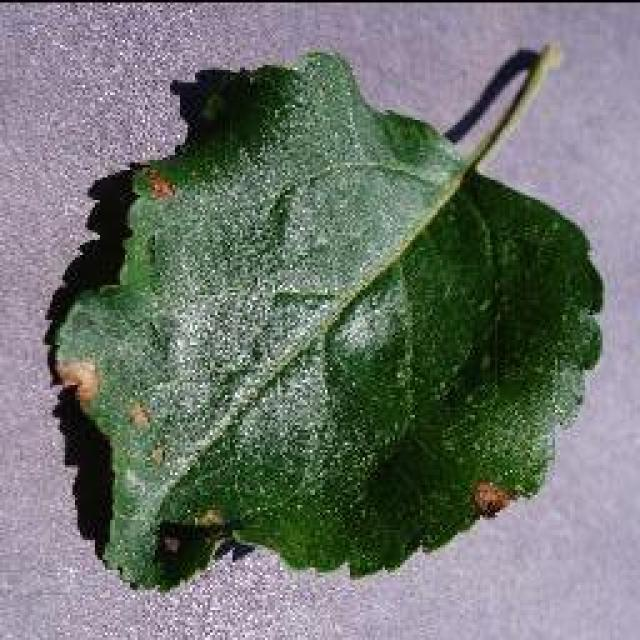Black_rot: (45, 40, 605, 590)
